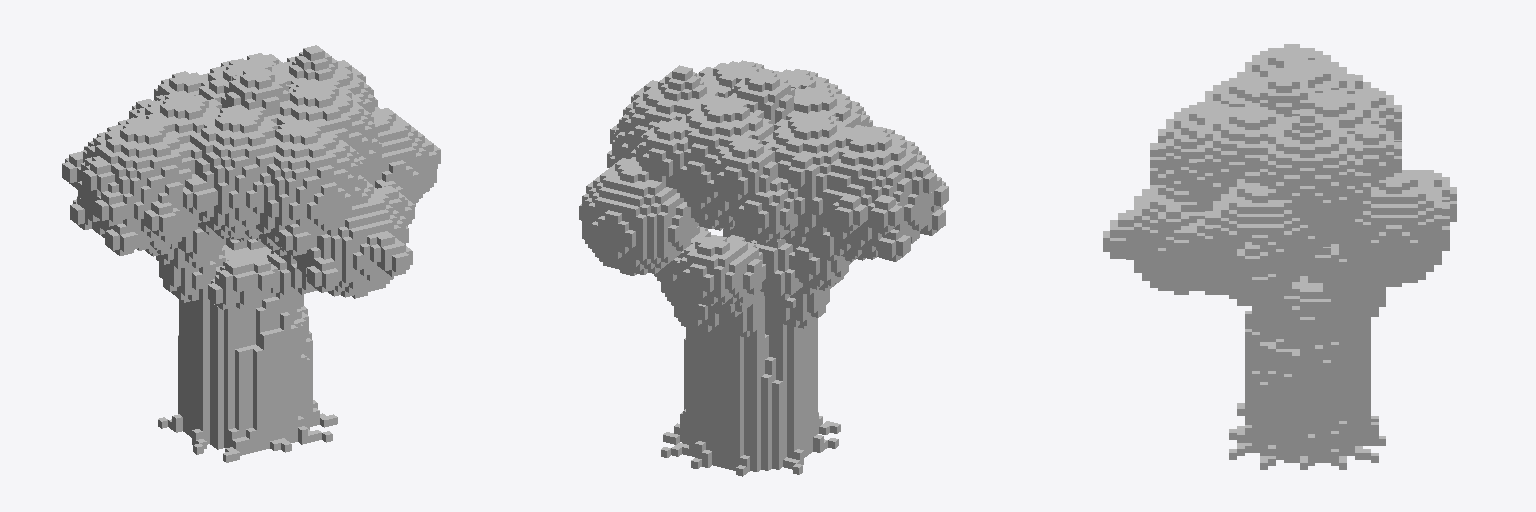
File: Tree.obj
3 views of the same model, side by side, from view 1: azimuth 30°, elevation 25°; view 2: azimuth 150°, elevation 25°; view 3: azimuth 270°, elevation 25° (orthographic).
Size of the model in its own units: 49 by 50 by 45.